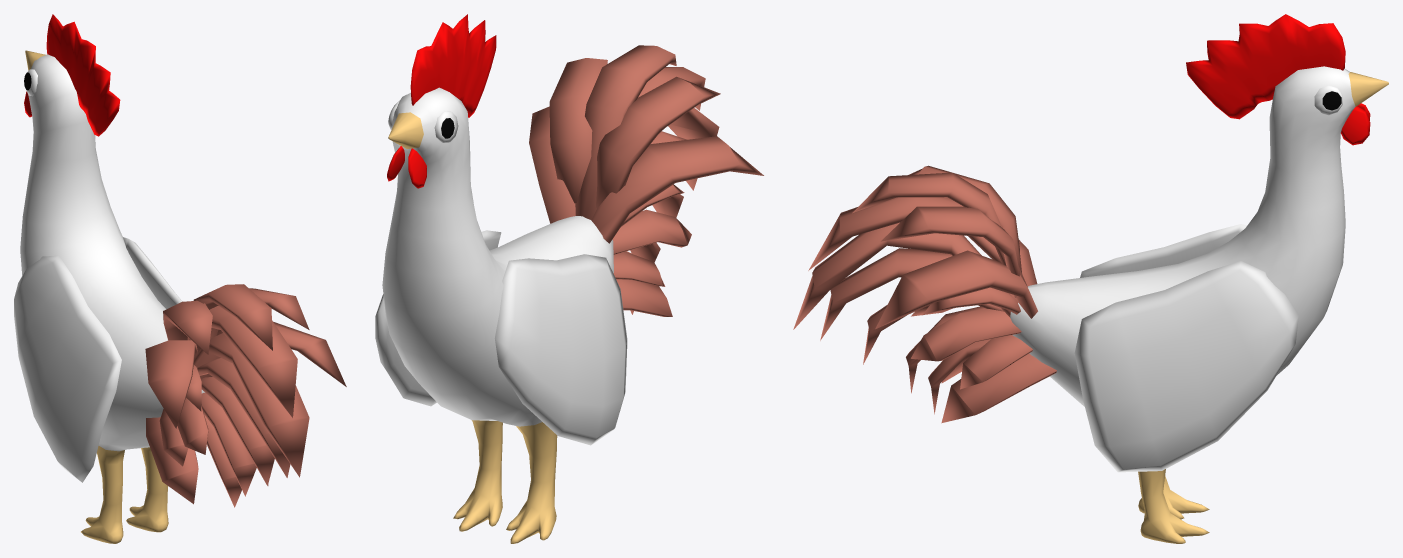
File: Ayam.fbx
3 renders of one model, left to right at view 1: azimuth 30°, elevation 25°; view 2: azimuth 150°, elevation 25°; view 3: azimuth 270°, elevation 25°, orthographic. The views are drawn at different scales.
Parts seen in each view (by area): view 1: Cylinder; view 2: Cylinder; view 3: Cylinder.
Part boxes in pixels (x1,y1,x2,y2): Cylinder: [14, 14, 346, 543]; Cylinder: [375, 14, 763, 543]; Cylinder: [793, 14, 1388, 543].
Bounding box in the file's own units: 1590 × 4013 × 4237.
